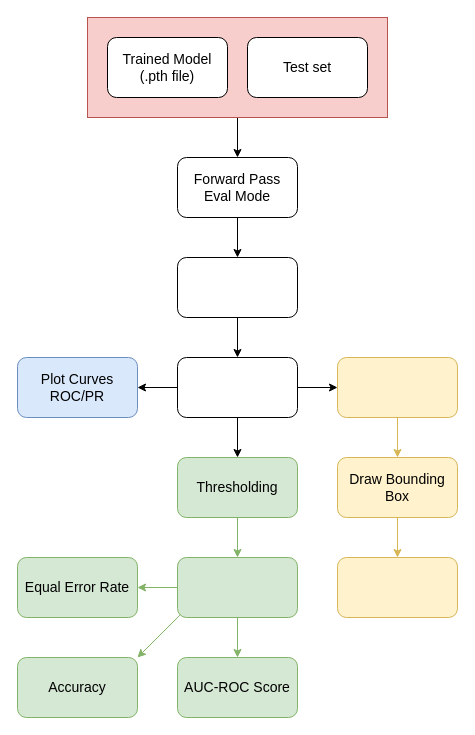
This 475x735 diagram has some shape labels left out. Here are the shapes that lost their labels. From the top down, the centre of each, then its label:
(x=237, y=287): Raw Logits Output
(x=237, y=387): Sigmoid Proabilities
(x=397, y=387): Frame Visualization
(x=237, y=587): Compute Metrics
(x=397, y=587): Failure Case Analysis
